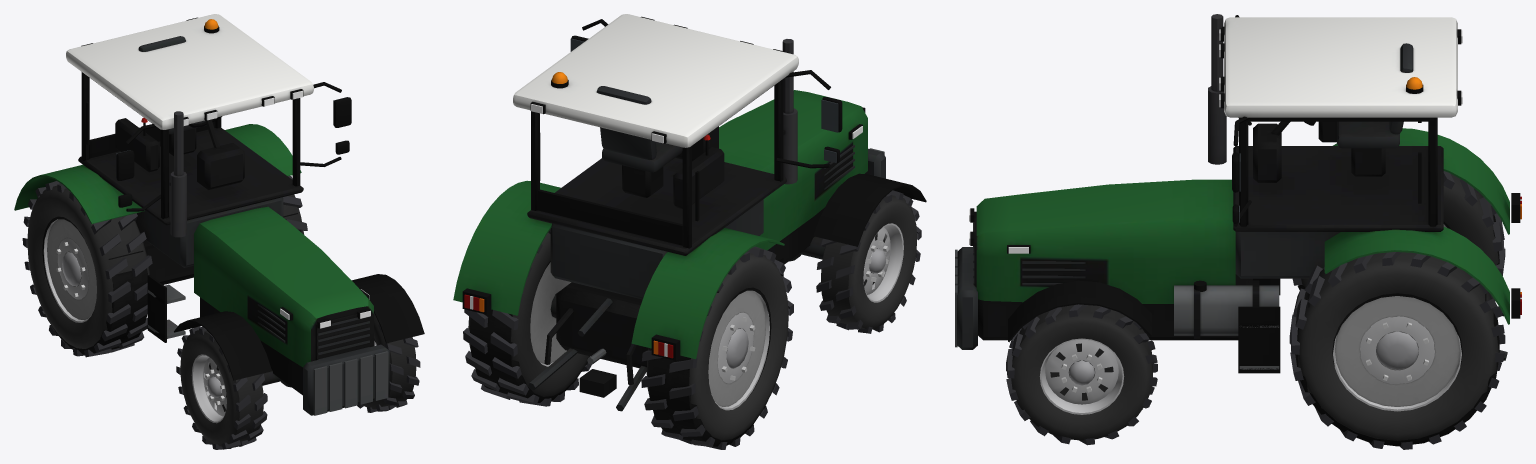
Rendered from traktor.glb.
3 renders of one model, left to right at view 1: azimuth 30°, elevation 25°; view 2: azimuth 150°, elevation 25°; view 3: azimuth 270°, elevation 25°, orthographic. The views are drawn at different scales.
Parts seen in each view (by area): view 1: koerper, rad_hr_gummi, rad_vr_gummi, rad_vl_gummi, rad_hr_metall, rad_vr_metall, rad_hl_gummi; view 2: koerper, rad_hr_gummi, rad_vr_gummi, rad_hl_gummi, rad_hr_metall, rad_vr_metall; view 3: koerper, rad_hl_gummi, rad_vl_gummi, rad_hl_metall, rad_vl_metall, rad_hr_gummi.
Part boxes in pixels (x1,y1,x2,y2): koerper: (14,14,424,415); rad_hr_gummi: (22,181,152,357); rad_vr_gummi: (176,326,267,449); rad_vl_gummi: (357,313,420,412); rad_hr_metall: (43,219,94,322); rad_vr_metall: (191,354,226,423); rad_hl_gummi: (283,176,307,234); koerper: (453,14,926,446); rad_hr_gummi: (641,246,793,449); rad_vr_gummi: (816,190,921,333); rad_hl_gummi: (463,229,591,406); rad_hr_metall: (711,291,769,410); rad_vr_metall: (863,223,903,302); koerper: (955,14,1521,446); rad_hl_gummi: (1289,252,1505,449); rad_vl_gummi: (1006,304,1157,445); rad_hl_metall: (1333,316,1461,411); rad_vl_metall: (1039,338,1124,414); rad_hr_gummi: (1292,171,1505,301).
Bounding box in the file's own units: 2.46 × 2.91 × 4.31.
3 materials, 1 textured.
